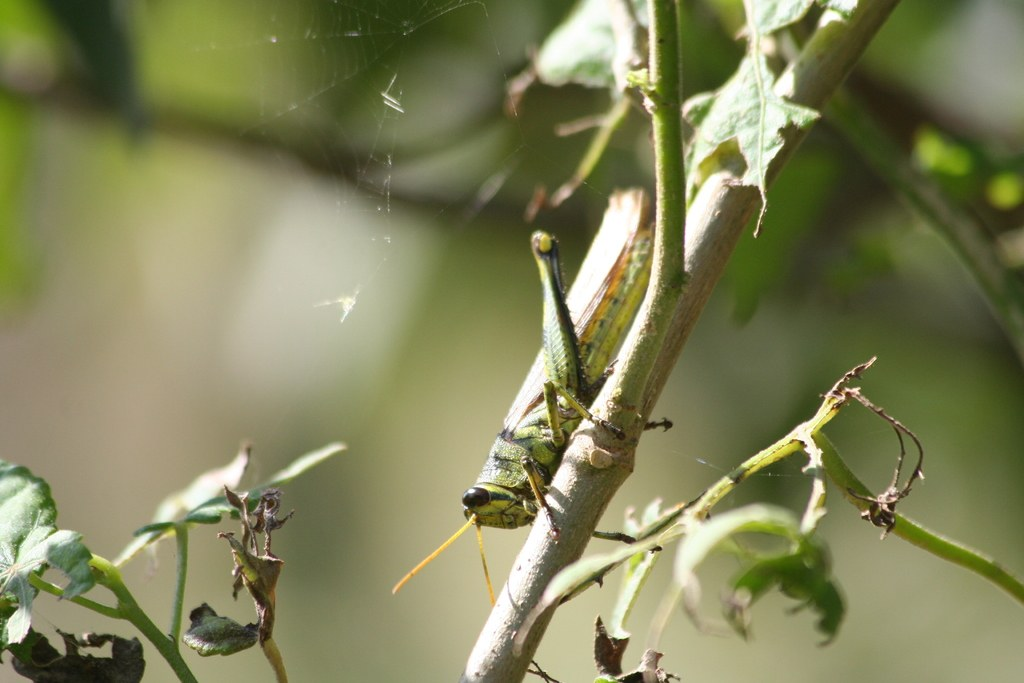insect: (0, 50, 1024, 679), (382, 188, 662, 618)
